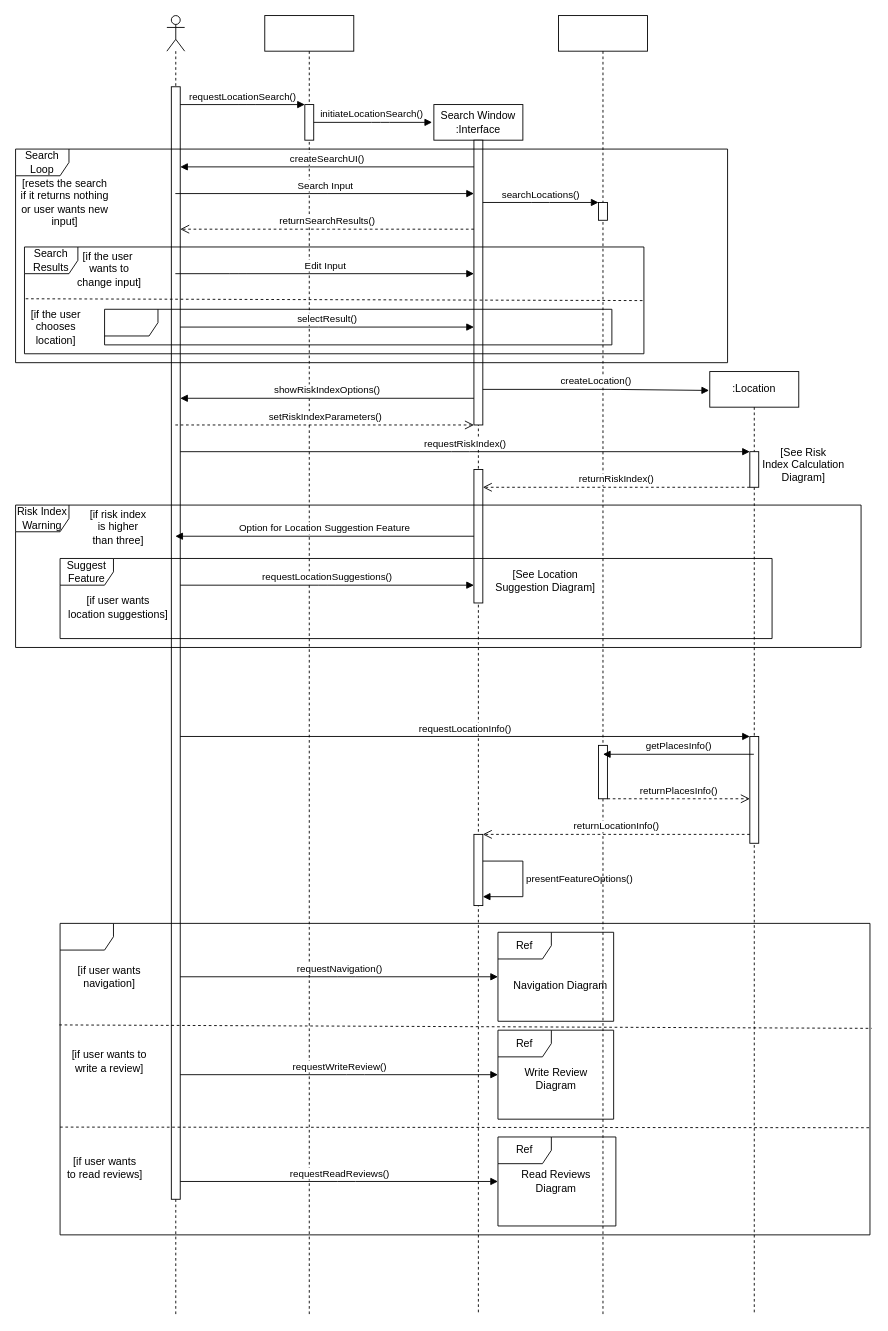
This 888x1331 diagram has some shape labels left out. Here are the shapes that lost their labels. From the top down, the box of each, then its label:
(104, 308, 612, 345): Break Loop
(264, 15, 354, 1315): Sidebar :Interface
(558, 15, 647, 1315): :Google Places Location Data
(59, 922, 870, 1235): Feature Options
